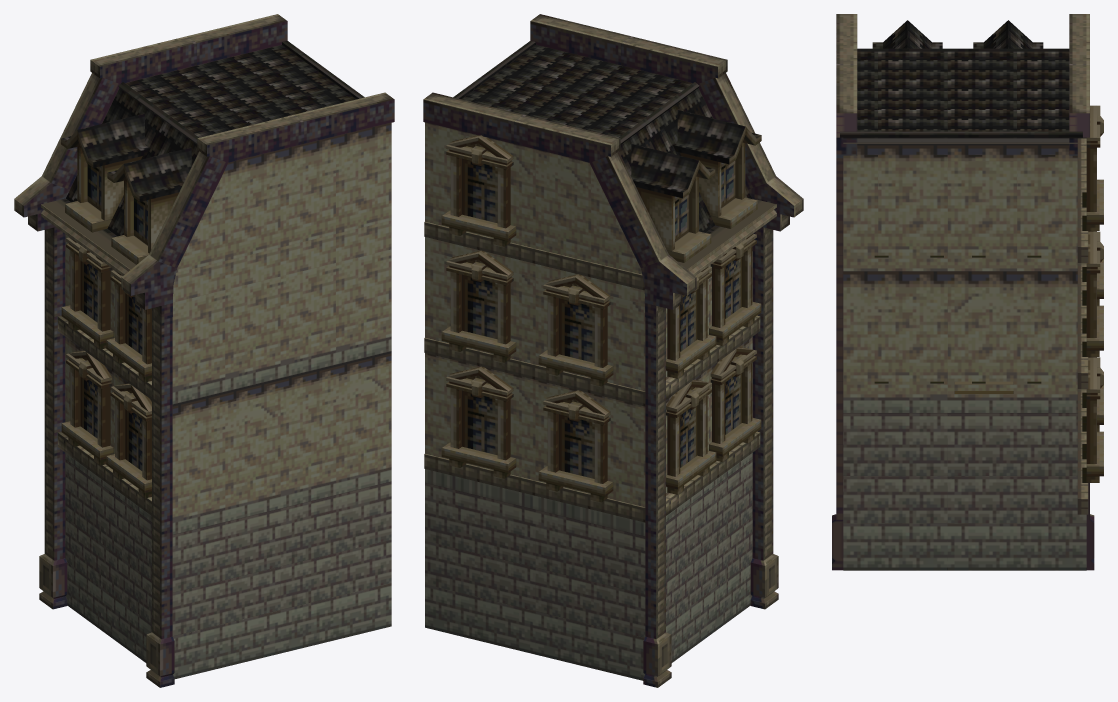
The model's file is EnvBdgMD_City_B_Outdoor_L_H.FBX.
The picture shows the model from 3 angles, left to right: view 1: azimuth 30°, elevation 25°; view 2: azimuth 150°, elevation 25°; view 3: azimuth 270°, elevation 25°; orthographic projection. The views are drawn at different scales.
Parts seen in each view (by area): view 1: EnvBdgMD_City_B_Outdoor_L_H; view 2: EnvBdgMD_City_B_Outdoor_L_H; view 3: EnvBdgMD_City_B_Outdoor_L_H.
Part boxes in pixels (x1,y1,x2,y2): EnvBdgMD_City_B_Outdoor_L_H: [14, 14, 394, 687]; EnvBdgMD_City_B_Outdoor_L_H: [423, 14, 803, 687]; EnvBdgMD_City_B_Outdoor_L_H: [832, 14, 1103, 570].
Bounding box in the file's own units: 476 × 913 × 391.
1 material, 1 textured.
